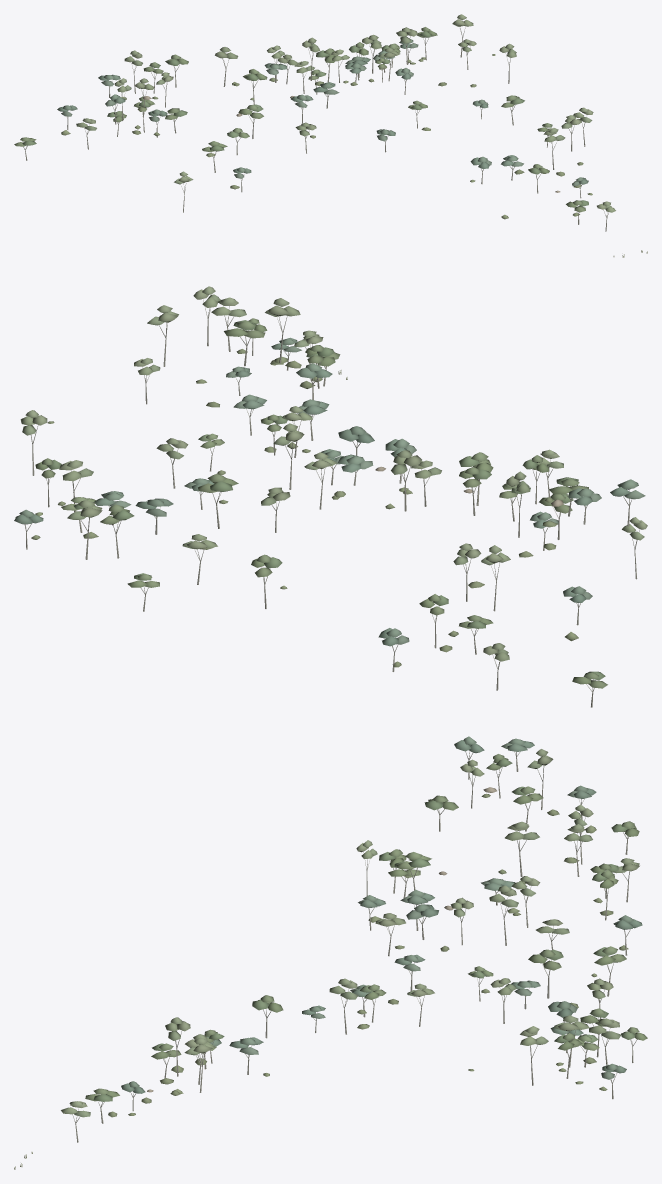
Rendered from Stage 2 Bushland Sector 03.glb.
3 views of the same model, one above another, from view 1: azimuth 30°, elevation 25°; view 2: azimuth 150°, elevation 25°; view 3: azimuth 270°, elevation 25° (orthographic). The views are drawn at different scales.
Visible parts, largest first — view 1: Stage2 Vegetation Sector 03; view 2: Stage2 Vegetation Sector 03; view 3: Stage2 Vegetation Sector 03.
Boxes of the visible parts, bbox=[...] form: Stage2 Vegetation Sector 03: bbox=[14, 14, 647, 257]; Stage2 Vegetation Sector 03: bbox=[14, 286, 647, 707]; Stage2 Vegetation Sector 03: bbox=[14, 736, 647, 1169].
Size of the model in its own units: 171 by 56.26 by 159.
